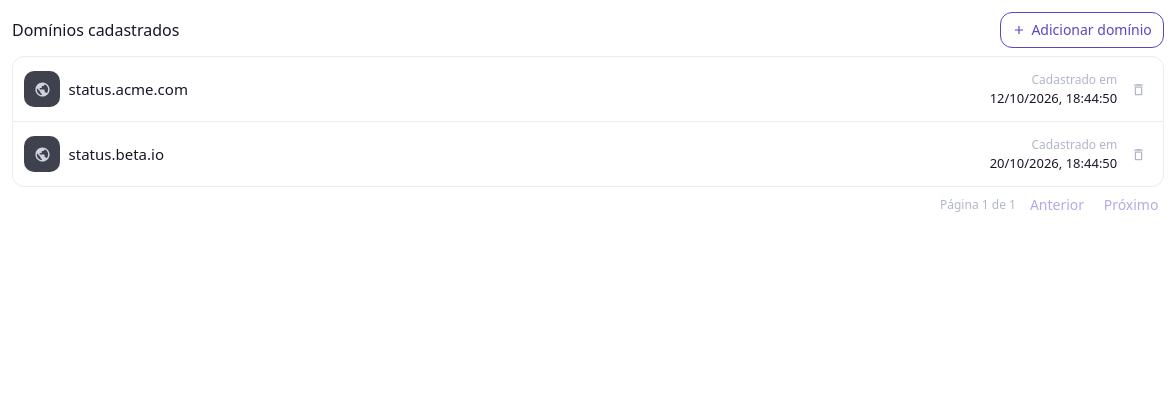
DomainsPage › duplicate registration shows the exact error without creating a new row
Click the button "Adicionar domínio": (1082, 30) [1000, 12, 1164, 48]
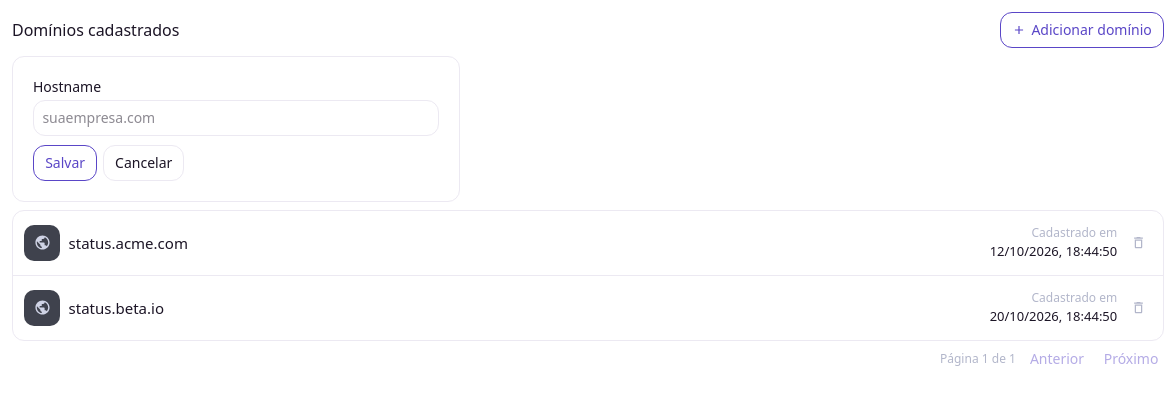
In the field labelled "Hostname": (236, 118) [33, 100, 439, 136], type "status.acme.com"
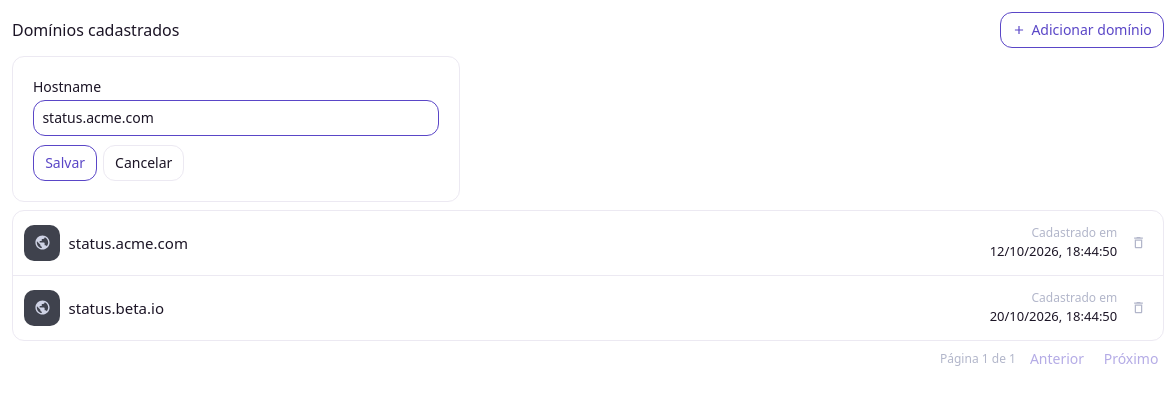
Click the button "Salvar": (65, 163) [33, 145, 97, 181]
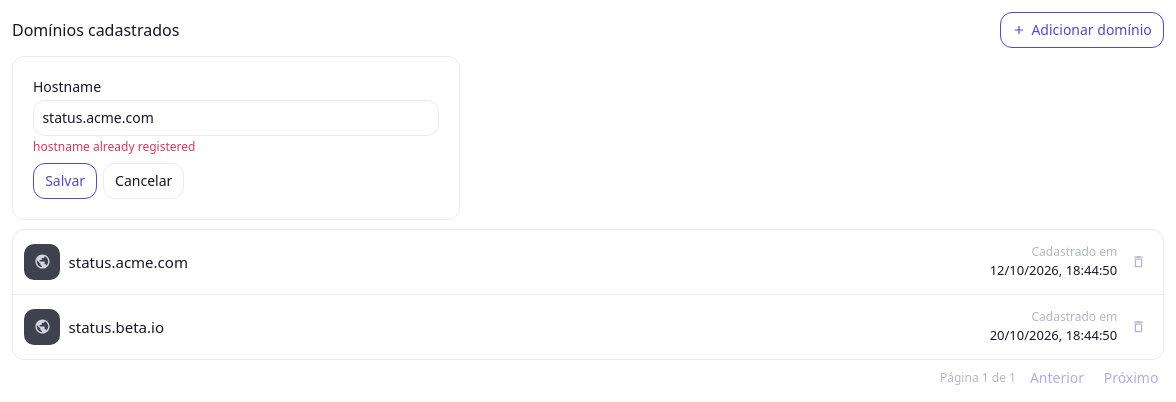
Expected: the text "status.acme.com" is shown once, [69, 252, 188, 272]
Expected: the text "hostname already registered" is shown, [33, 138, 195, 155]
